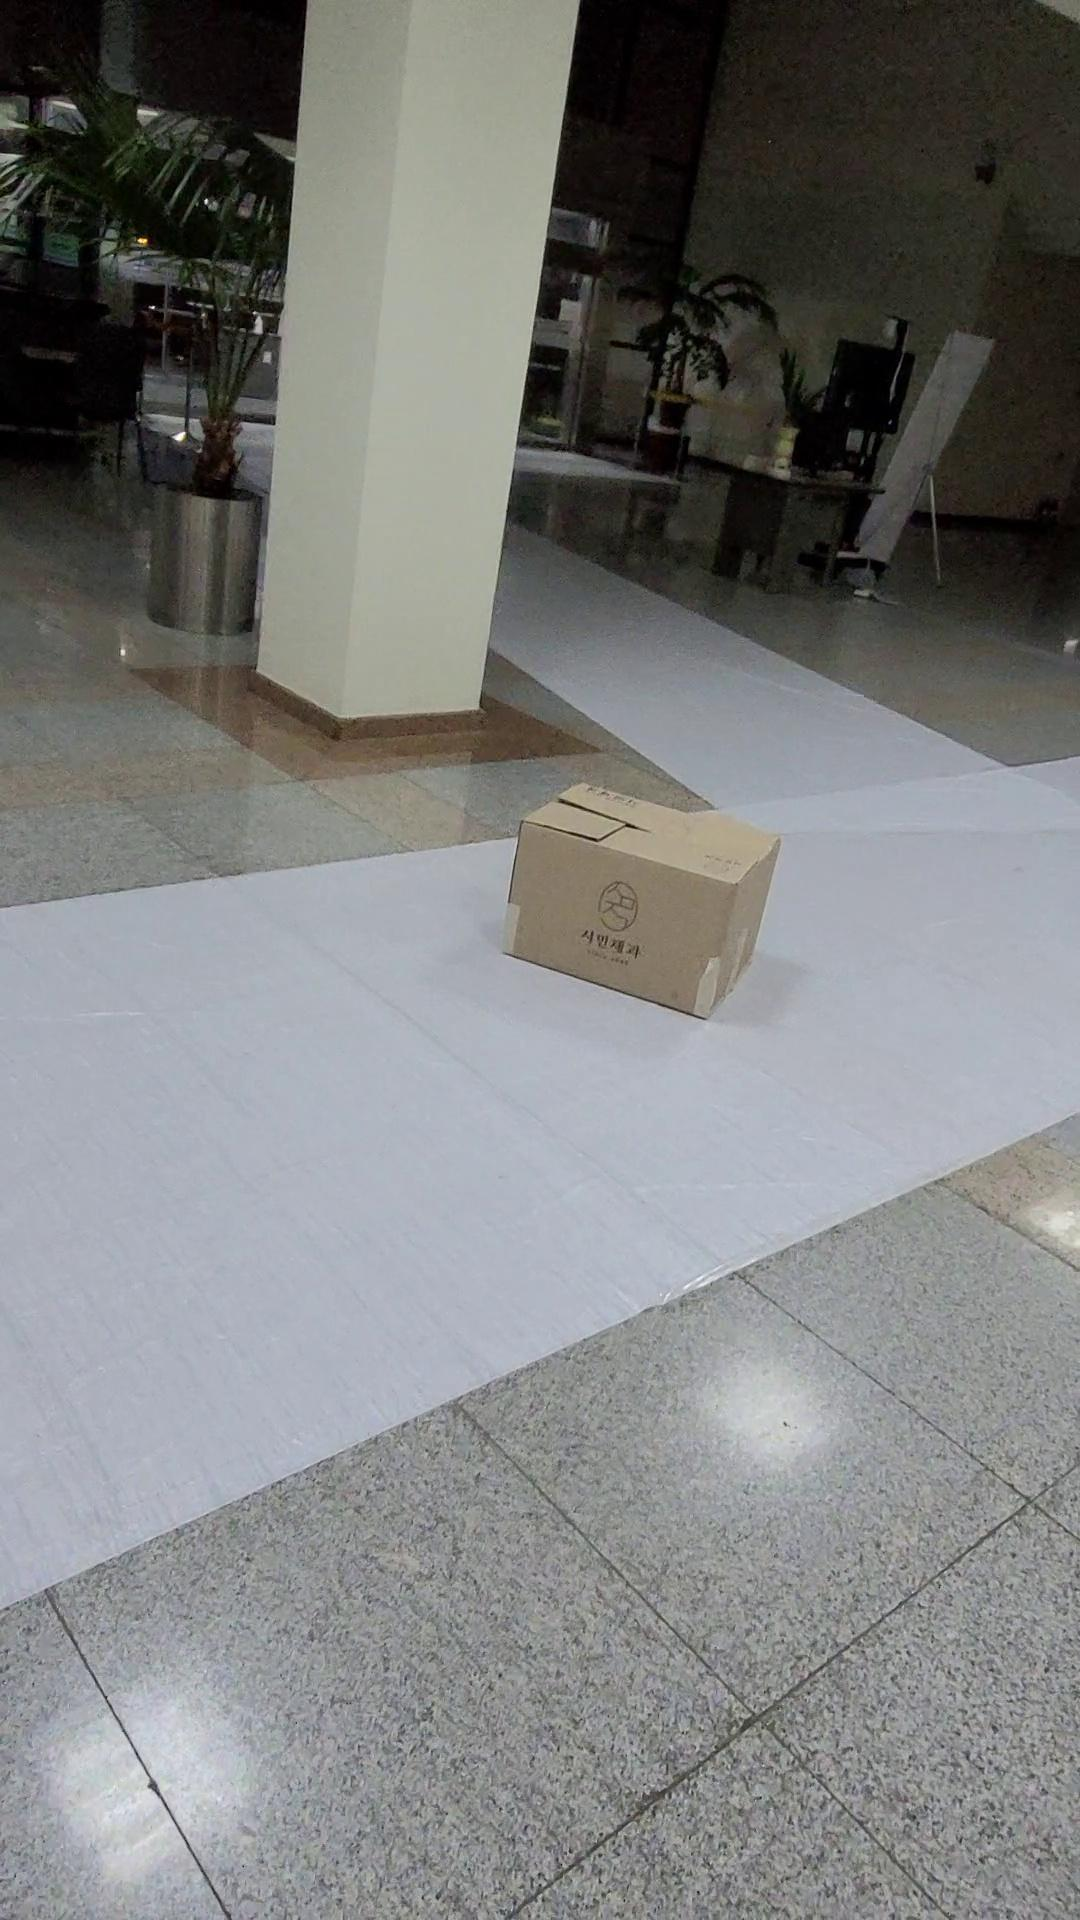Box: (446, 785, 802, 1036)
